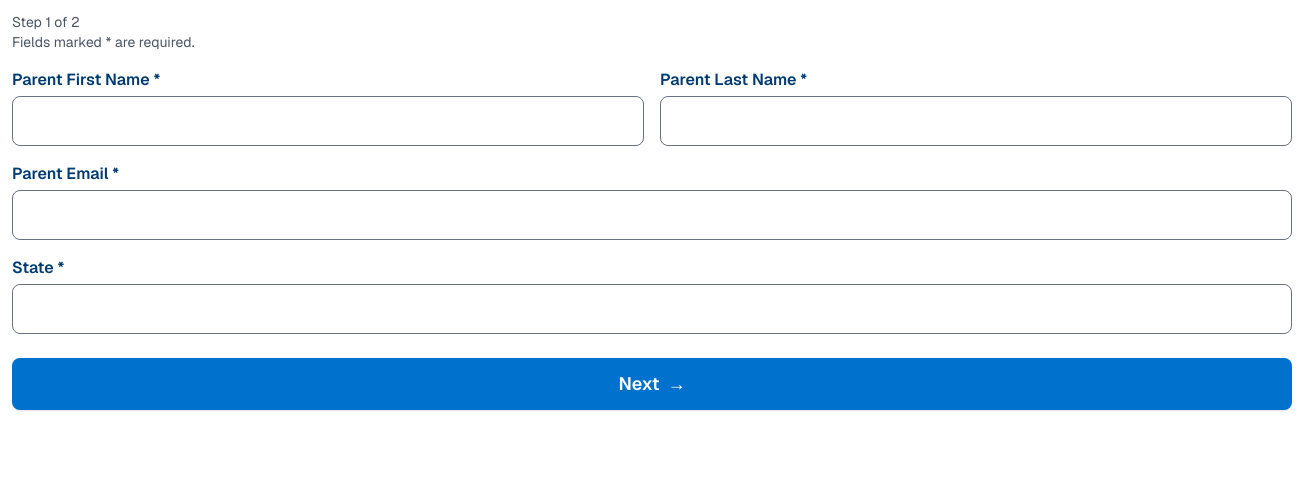
Test: RequestInfoForm › shows field errors and stays on step 1 when parent info is missing
Click the button "Next →": (652, 384) [12, 358, 1292, 410]
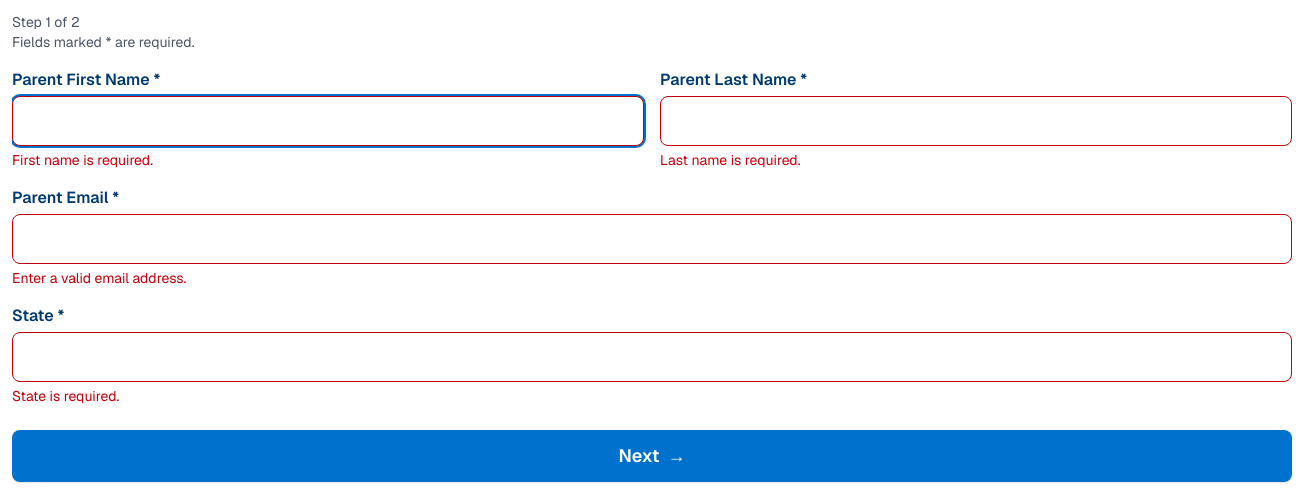
expect the text "Step 1 of 2" is shown: met, box [12, 13, 80, 31]
expect the text "First name is required." is shown: met, box [12, 151, 153, 169]
